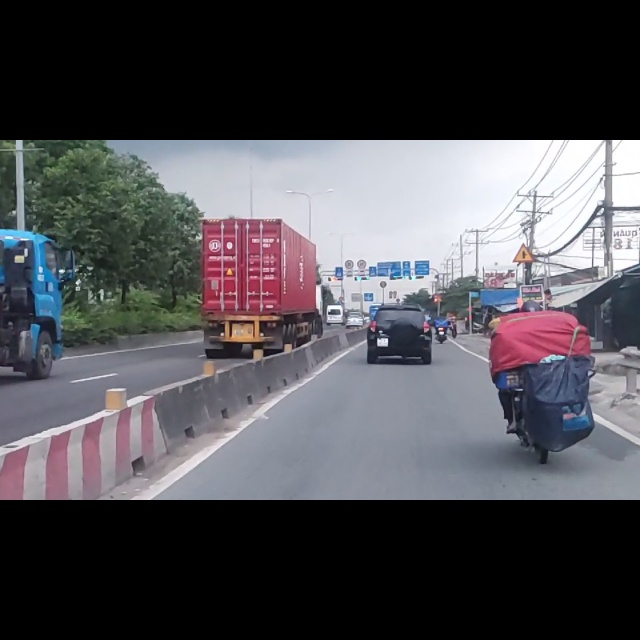bien_chi_dan: (512, 184, 535, 219)
